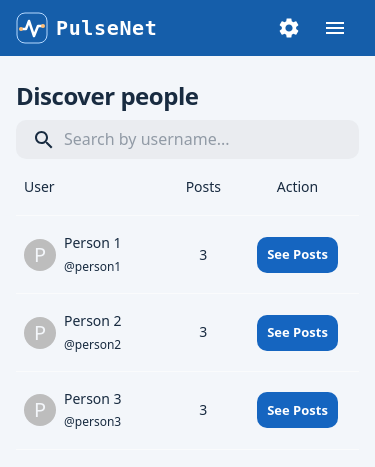
frontend request recovery › ignores an old search pagination response after the query changes
The image size is (375, 467).
Type "fresh" into the field with placeholder "Search by username..." at [188, 140], box [16, 120, 359, 159]
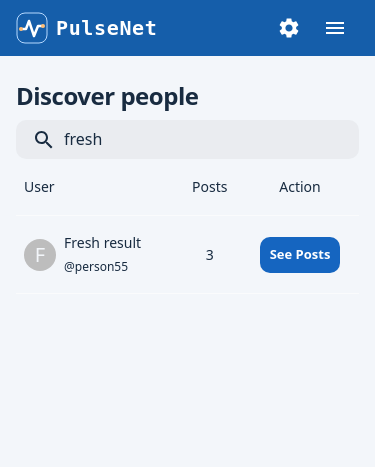
Check: the link "F Fresh result @person55" is shown, box [24, 233, 141, 275]
